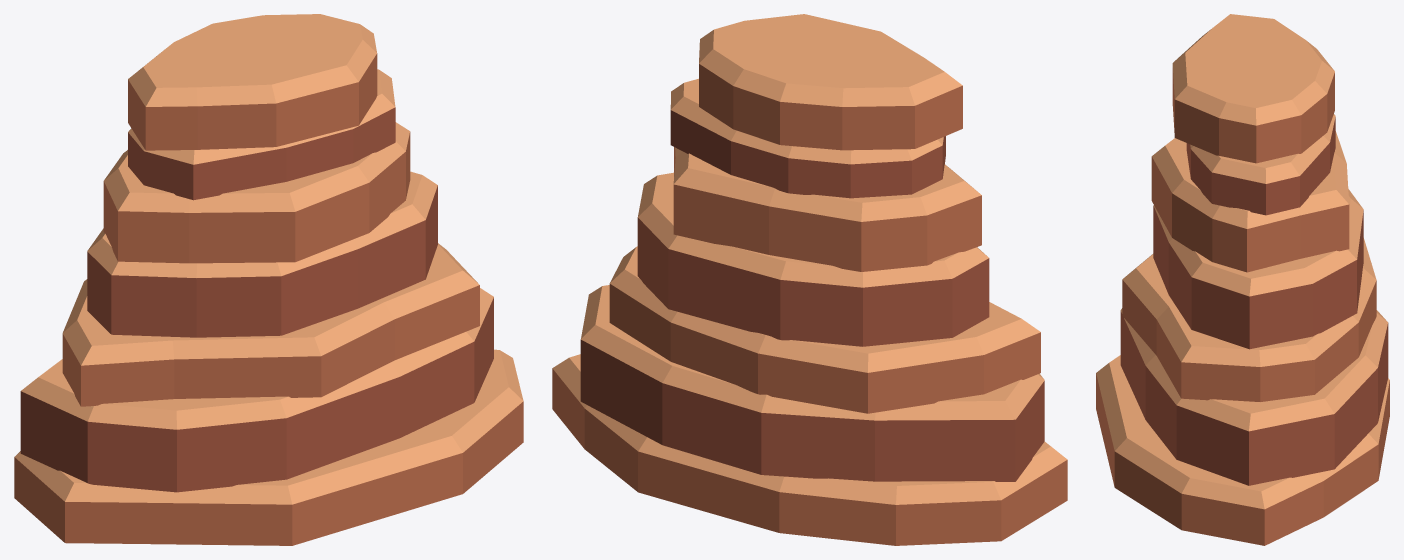
The model's file is mesa_c.glb.
The picture shows the model from 3 angles, left to right: view 1: azimuth 30°, elevation 25°; view 2: azimuth 150°, elevation 25°; view 3: azimuth 270°, elevation 25°; orthographic projection. The views are drawn at different scales.
Parts seen in each view (by area): view 1: mesa_c; view 2: mesa_c; view 3: mesa_c.
Part boxes in pixels (left/top/right/bottom): mesa_c: left=14, top=14, right=523, bottom=545; mesa_c: left=552, top=14, right=1067, bottom=545; mesa_c: left=1096, top=14, right=1389, bottom=545.
Bounding box in the file's own units: 46.87 × 38.66 × 27.85.
